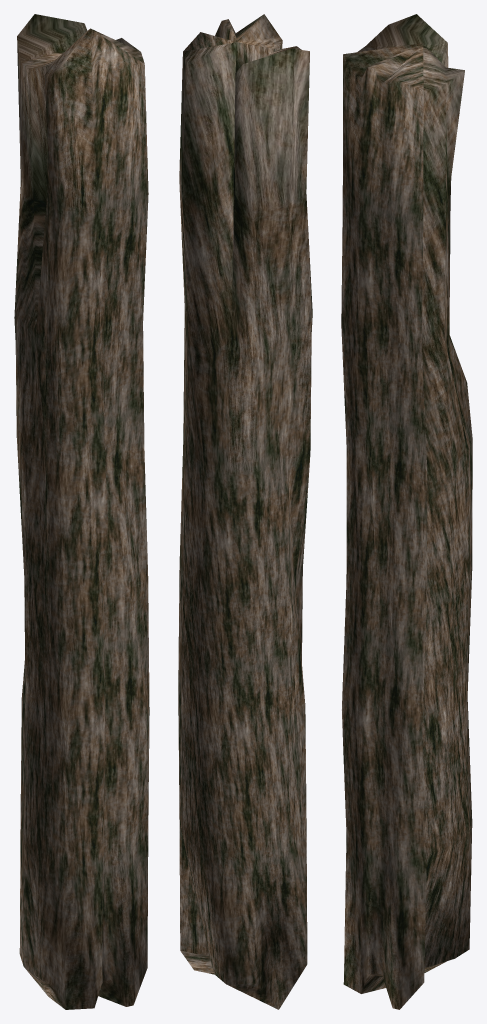
Rendered from Bark_log.fbx.
3 views of the same model, side by side, from view 1: azimuth 30°, elevation 25°; view 2: azimuth 210°, elevation 25°; view 3: azimuth 330°, elevation 25° (orthographic).
Parts seen in each view (by area): view 1: Cube; view 2: Cube; view 3: Cube.
Part boxes in pixels (x1=…): Cube: x1=14, y1=14, x2=149, y2=1009; Cube: x1=178, y1=14, x2=312, y2=1009; Cube: x1=341, y1=14, x2=472, y2=1009.
Bounding box in the file's own units: 45.73 × 401 × 46.64.
